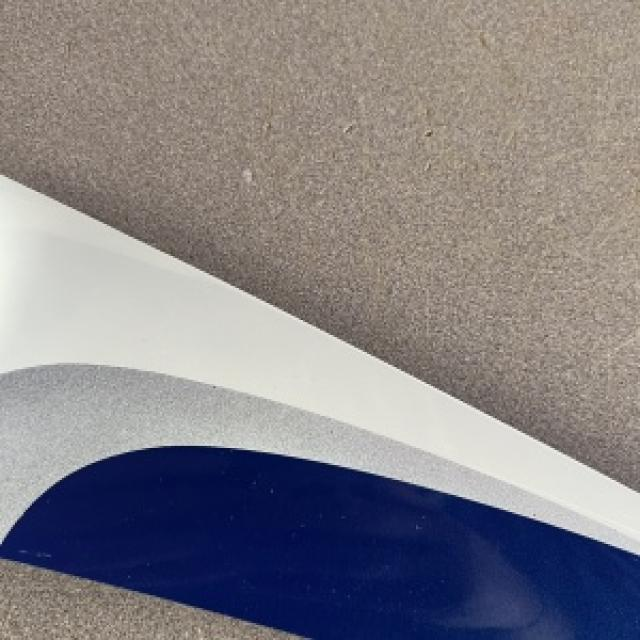healthy: (0, 177, 638, 638)
